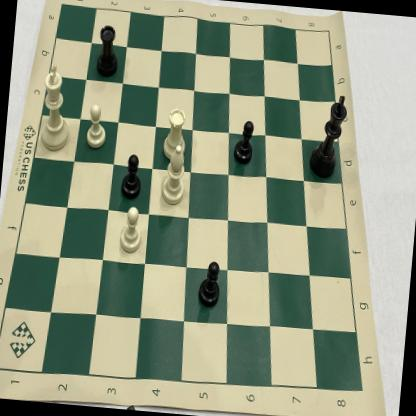bishop: (156, 140, 191, 212)
king: (34, 58, 79, 158), (307, 90, 352, 182)
pawn: (113, 204, 147, 258), (195, 256, 226, 314), (83, 98, 112, 152), (118, 150, 146, 204), (232, 114, 256, 169)
rook: (159, 102, 191, 166), (91, 22, 124, 82)
